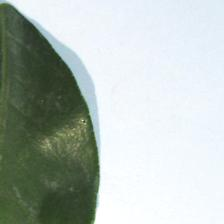healthy: (1, 2, 101, 224)
